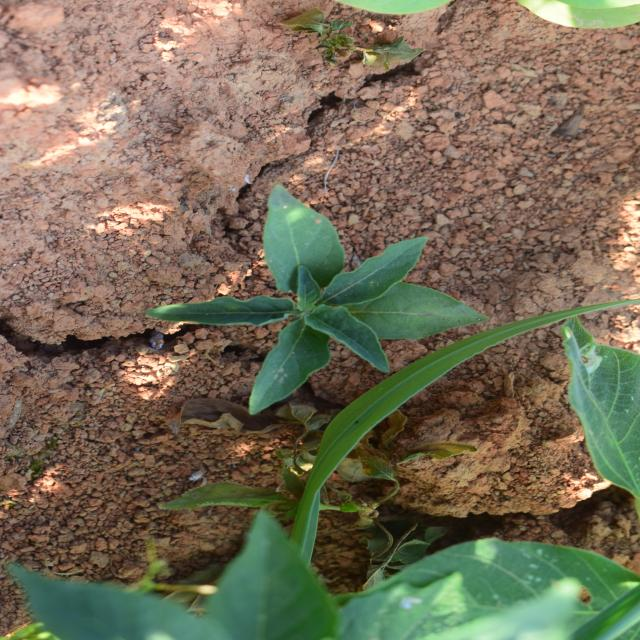Black_nightshade: (199, 186, 405, 471)
